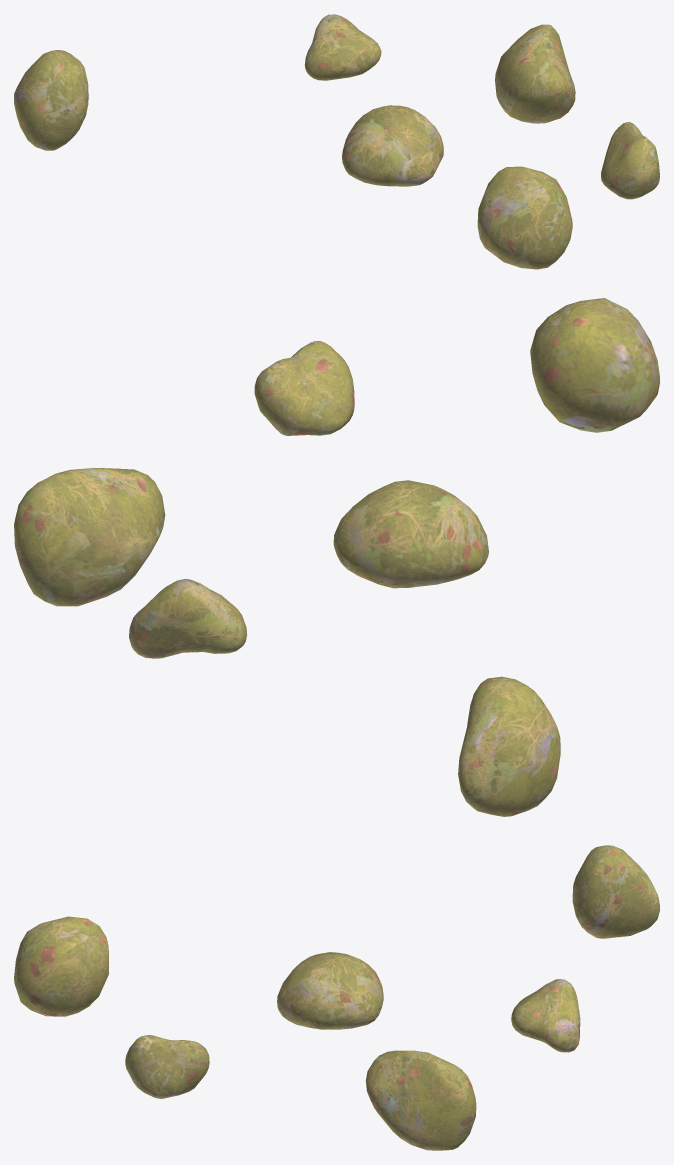
The model's file is rock.001.gltf.
3 renders of one model, top to bottom at view 1: azimuth 30°, elevation 25°; view 2: azimuth 150°, elevation 25°; view 3: azimuth 270°, elevation 25°, orthographic. The views are drawn at different scales.
Visible parts, largest first — view 1: rock.001; view 2: rock.001; view 3: rock.001.
Part boxes in pixels (bbox=[...]): rock.001: bbox=[14, 14, 659, 269]; rock.001: bbox=[14, 298, 659, 816]; rock.001: bbox=[14, 845, 659, 1150].
Bounding box in the file's own units: 3.39 × 0.8911 × 4.02.
Materials: 1 (1 with a texture image).
